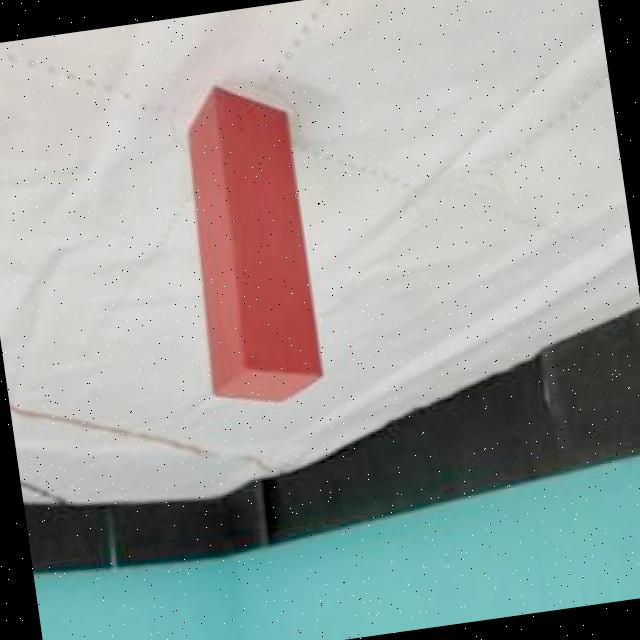redbox: (168, 77, 326, 414)
